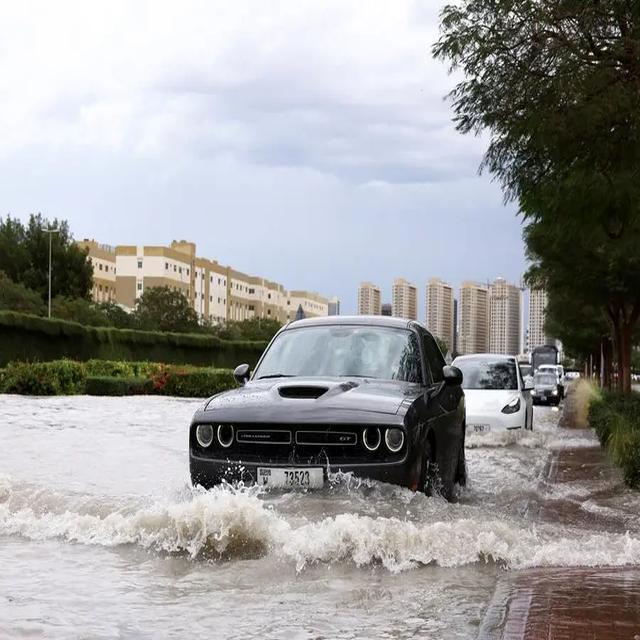Car-RiskLevel2: (188, 305, 473, 534), (440, 347, 541, 441)
